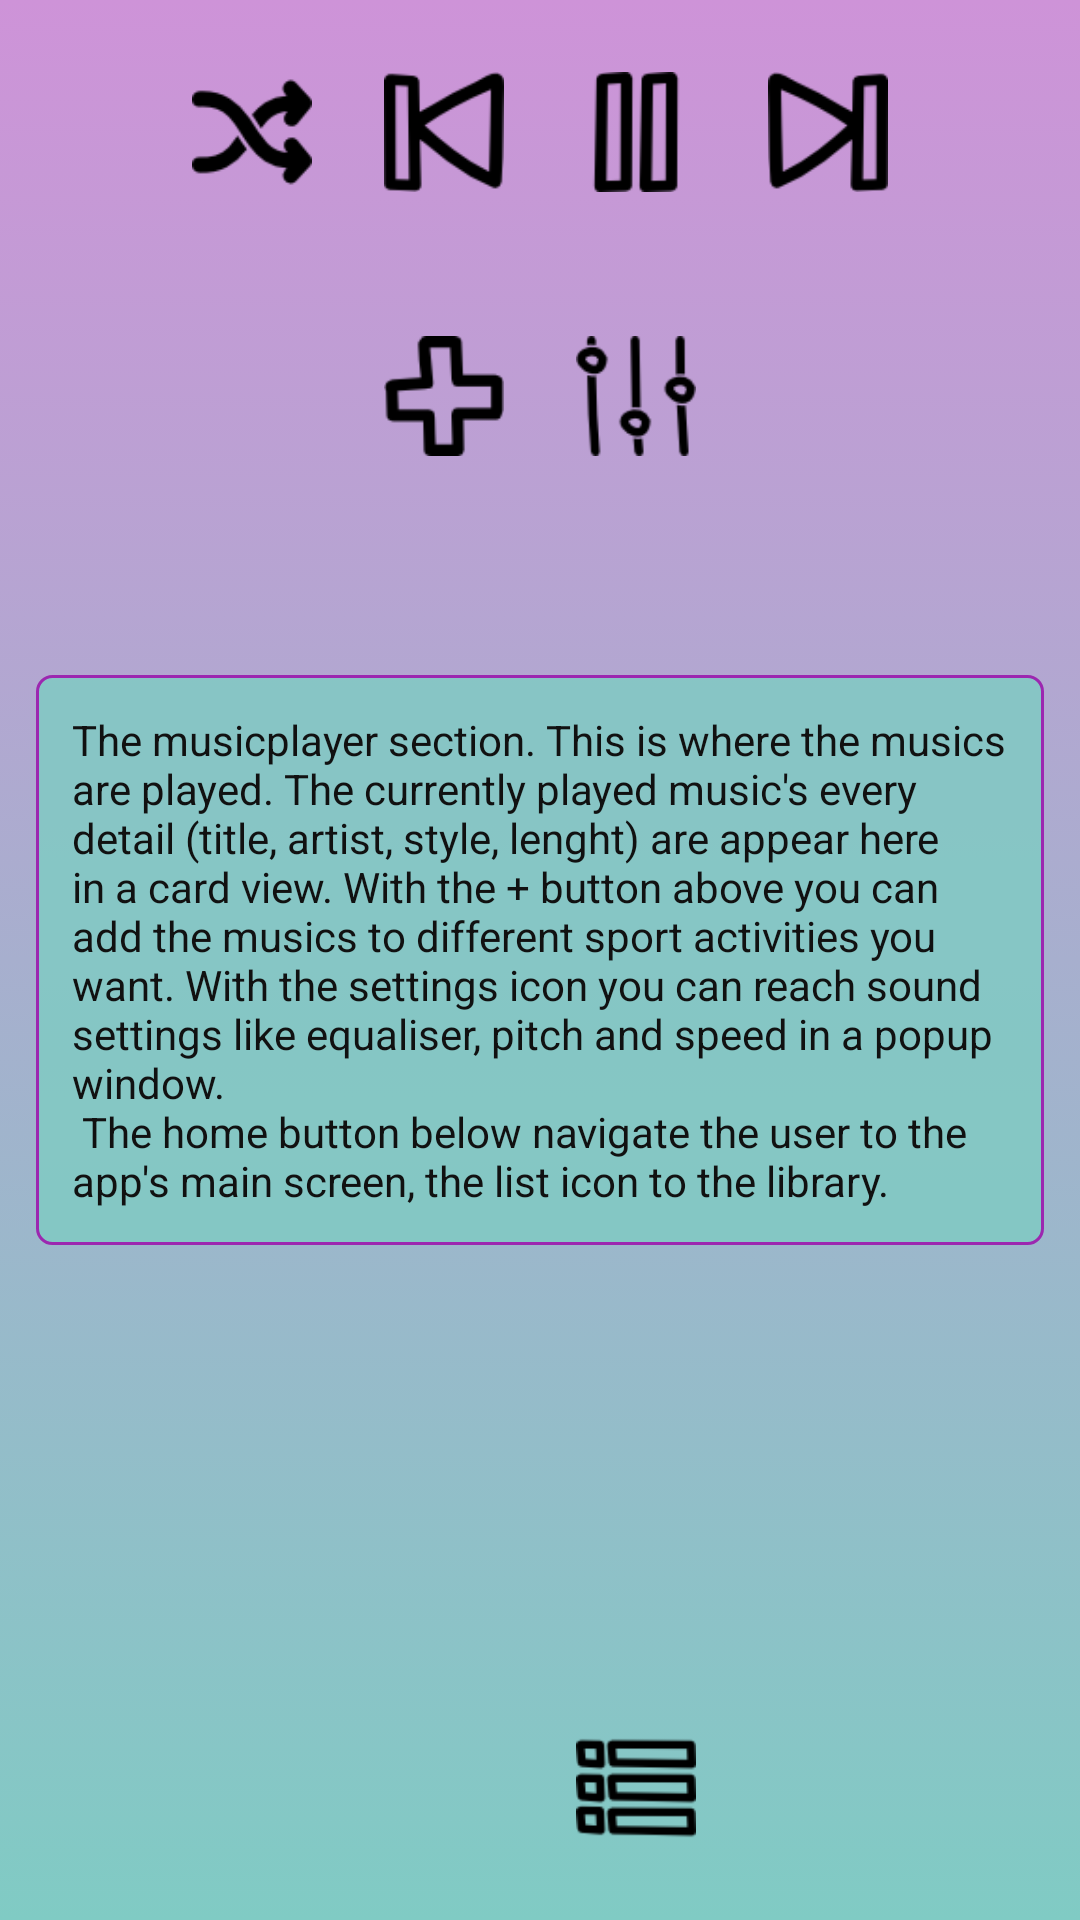

Icons on this 1080 x 1920 Android screen, each with the point to tap as (x=x, y=y):
add: (x=444, y=396)
list: (x=636, y=1788)
next: (x=828, y=132)
pause: (x=636, y=132)
previous: (x=444, y=132)
random: (x=252, y=132)
settings: (x=636, y=396)
